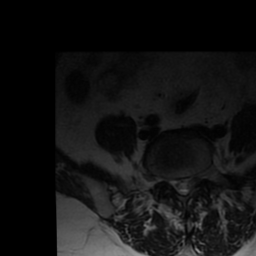CCS_normal: (179, 171, 187, 199)
LFS_normal: (193, 167, 201, 187)
LLS_normal: (186, 172, 193, 196)
RFS_severe_stenosis: (163, 170, 171, 189)
RLS_normal: (171, 173, 179, 194)
